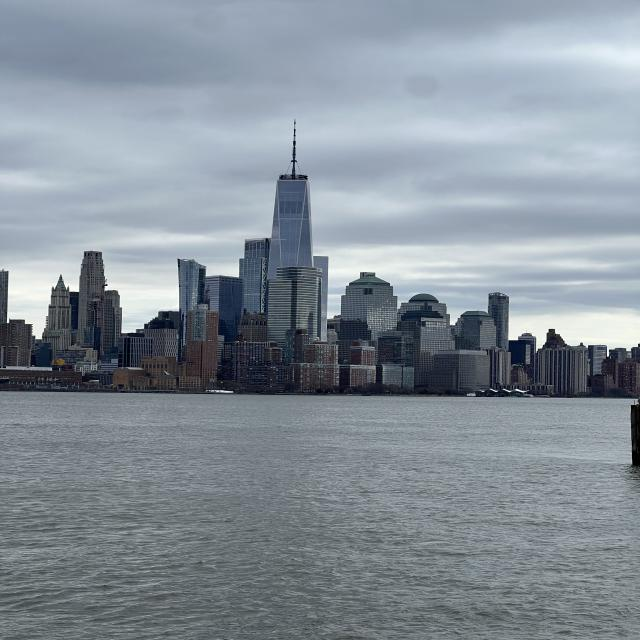WTC: (268, 119, 314, 272)
